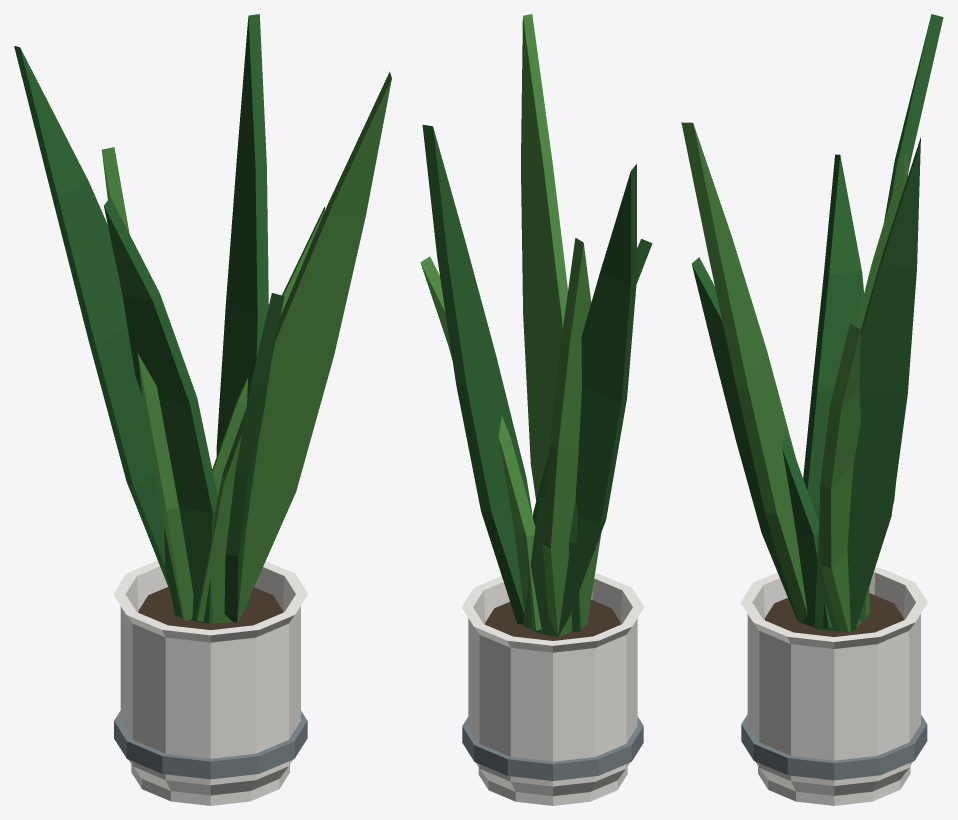
File: SM_LPI_Plant_SnakePlant_01.fbx
3 renders of one model, left to right at view 1: azimuth 30°, elevation 25°; view 2: azimuth 150°, elevation 25°; view 3: azimuth 270°, elevation 25°, orthographic. The views are drawn at different scales.
Parts seen in each view (by area): view 1: SM_LPI_Plant_SnakePlant_01; view 2: SM_LPI_Plant_SnakePlant_01; view 3: SM_LPI_Plant_SnakePlant_01.
Part boxes in pixels (x1=…): SM_LPI_Plant_SnakePlant_01: x1=14, y1=14, x2=391, y2=805; SM_LPI_Plant_SnakePlant_01: x1=420, y1=14, x2=652, y2=805; SM_LPI_Plant_SnakePlant_01: x1=681, y1=14, x2=943, y2=805.
Bounding box in the file's own units: 0.3771 × 0.9814 × 0.3328.
